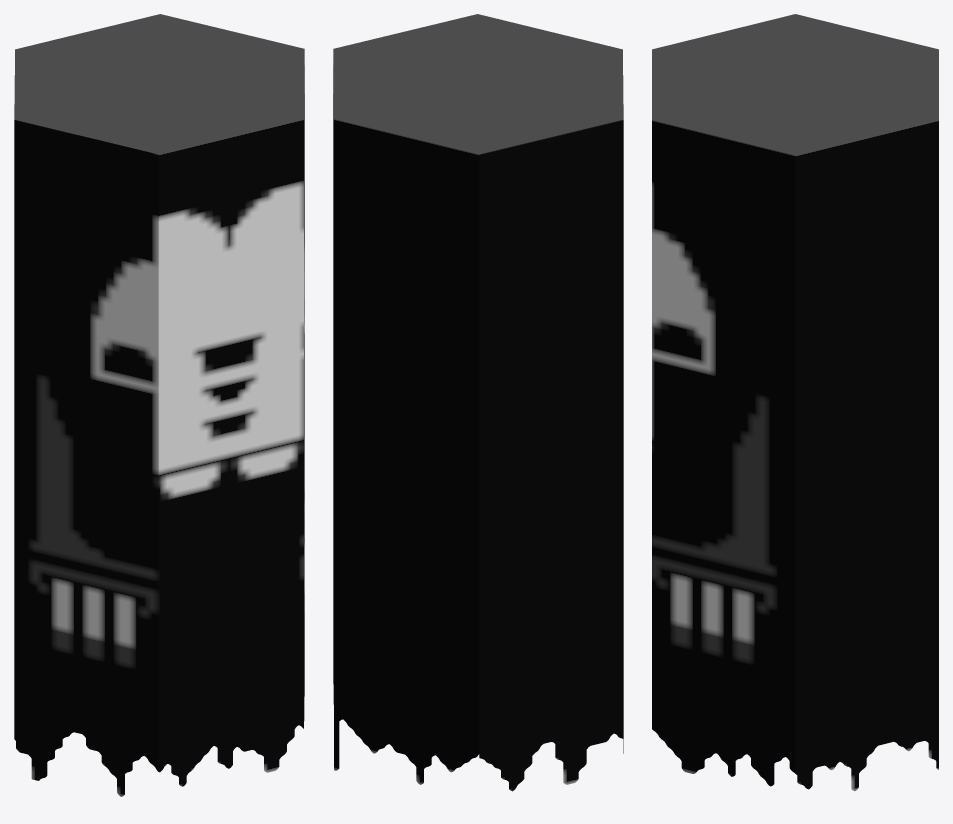
The model's file is enm_totem@idle.fbx.
The picture shows the model from 3 angles, left to right: view 1: azimuth 30°, elevation 25°; view 2: azimuth 150°, elevation 25°; view 3: azimuth 270°, elevation 25°; orthographic projection.
Parts seen in each view (by area): view 1: enm_totem; view 2: enm_totem; view 3: enm_totem.
Boxes of the visible parts, bbox=[...] form: enm_totem: bbox=[14, 14, 304, 796]; enm_totem: bbox=[333, 14, 623, 791]; enm_totem: bbox=[652, 14, 938, 790].
Bounding box in the file's own units: 89.45 × 193 × 76.6.
1 material, 1 textured.
